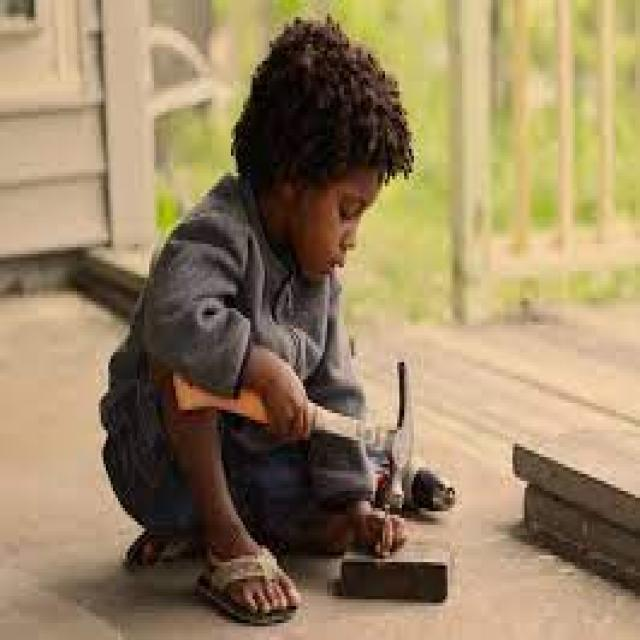hammer: (156, 346, 452, 522)
